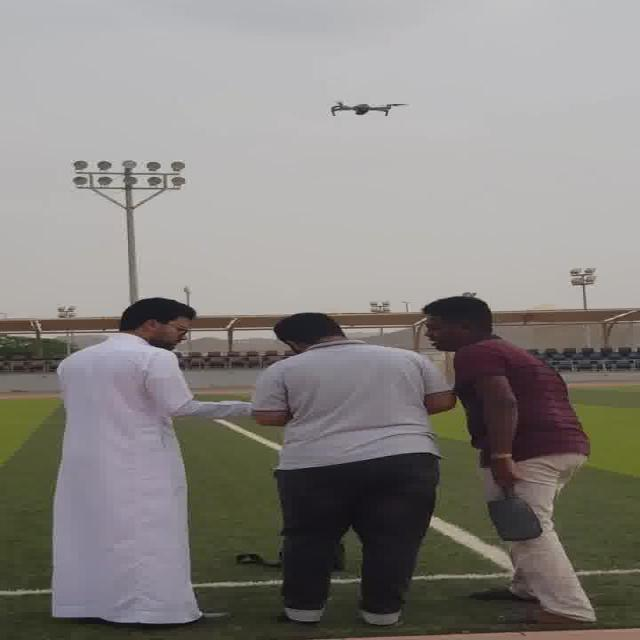drone: (321, 96, 411, 120)
